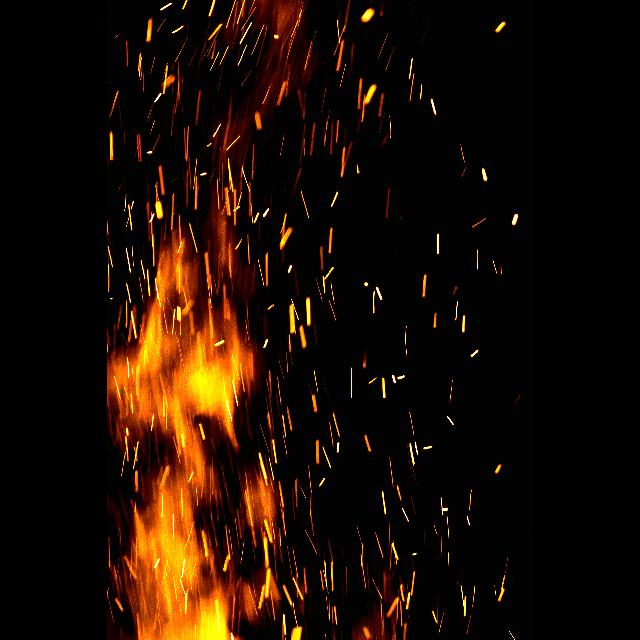fire: (116, 242, 314, 640)
